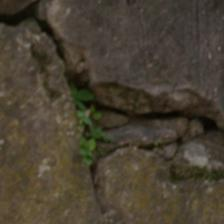Crack: (38, 44, 119, 180), (12, 59, 68, 121), (10, 87, 75, 134)
